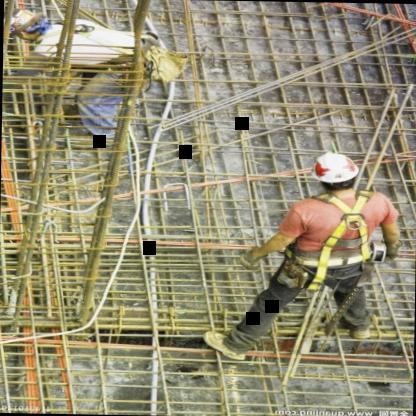helmet: (307, 152, 362, 192), (2, 3, 50, 42)
